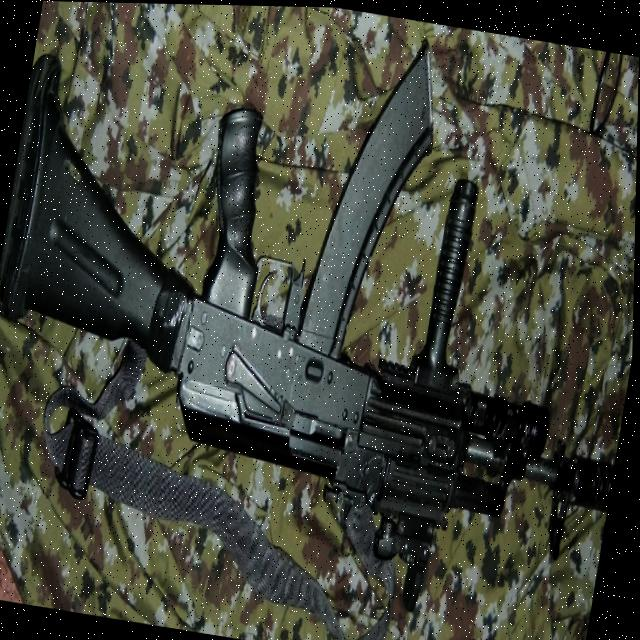firearm: (0, 0, 640, 636)
